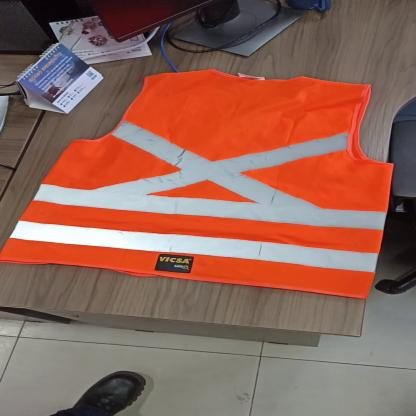colete: (0, 68, 395, 302)
